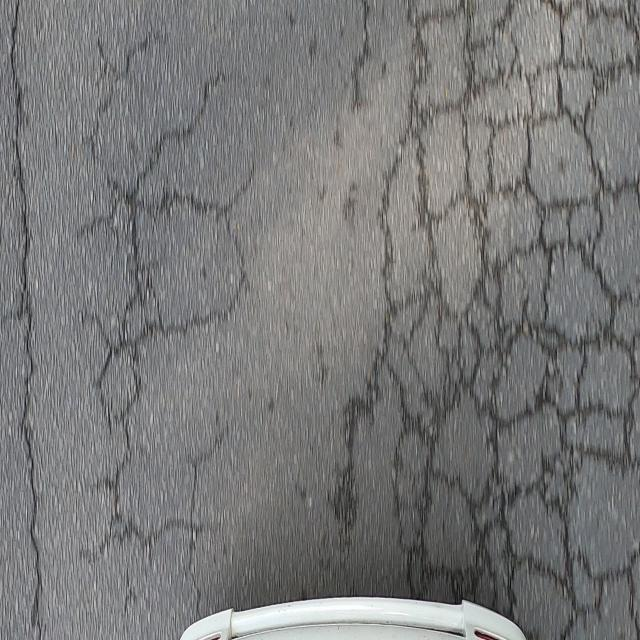Retak-Buaya: (381, 0, 640, 640), (79, 28, 269, 573)
Retak-Memanjang: (7, 3, 47, 633)
